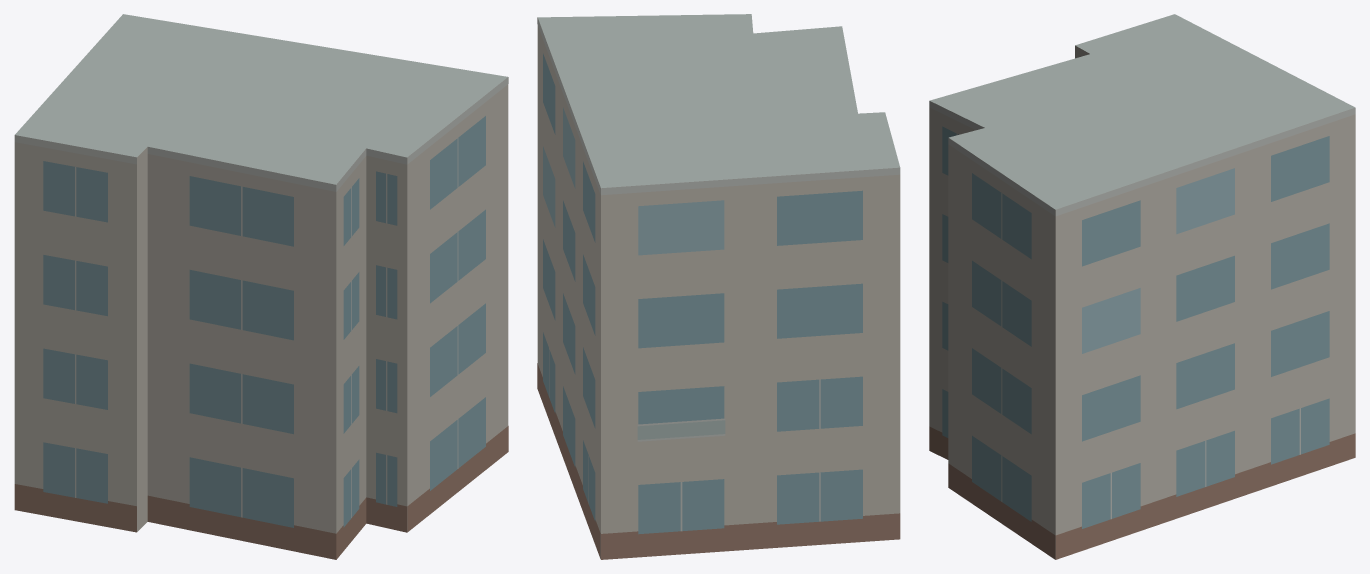
Rendered from survey-upis-32584949.glb.
3 renders of one model, left to right at view 1: azimuth 30°, elevation 25°; view 2: azimuth 150°, elevation 25°; view 3: azimuth 270°, elevation 25°, orthographic. The views are drawn at different scales.
Visible parts, largest first — view 1: survey-upis-32584949.tmp; view 2: survey-upis-32584949.tmp; view 3: survey-upis-32584949.tmp.
Boxes of the visible parts, x1,y1,x2,y2 form: survey-upis-32584949.tmp: (14,14,508,559); survey-upis-32584949.tmp: (537,14,900,559); survey-upis-32584949.tmp: (929,14,1355,559).
Bounding box in the file's own units: 15.36 × 12.8 × 14.13.
